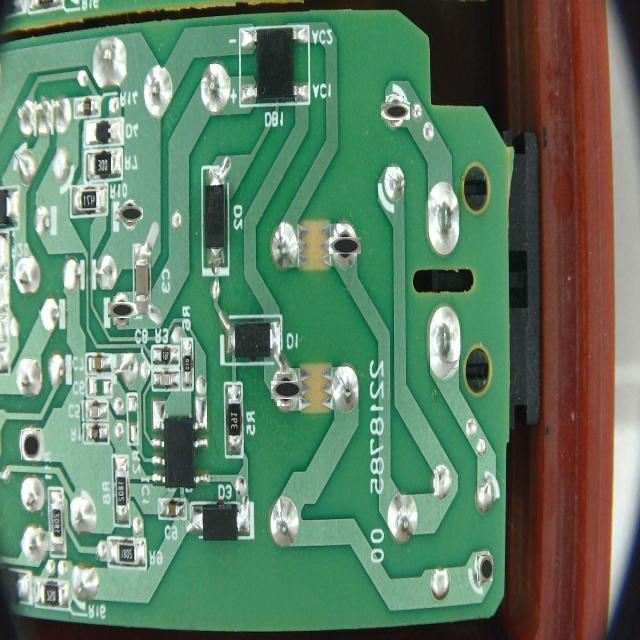damged: (332, 232, 358, 258), (274, 378, 298, 402), (383, 99, 407, 123), (21, 430, 40, 460), (110, 299, 133, 322), (120, 203, 140, 224), (477, 555, 493, 581)
